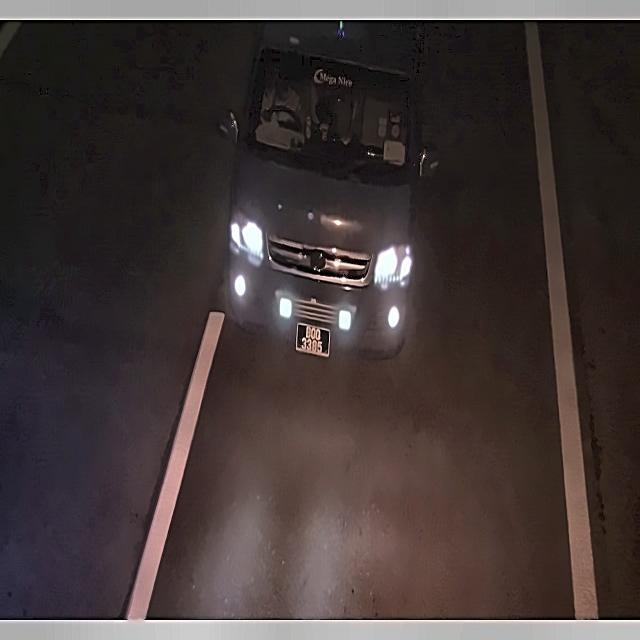car: (292, 309, 333, 366)
